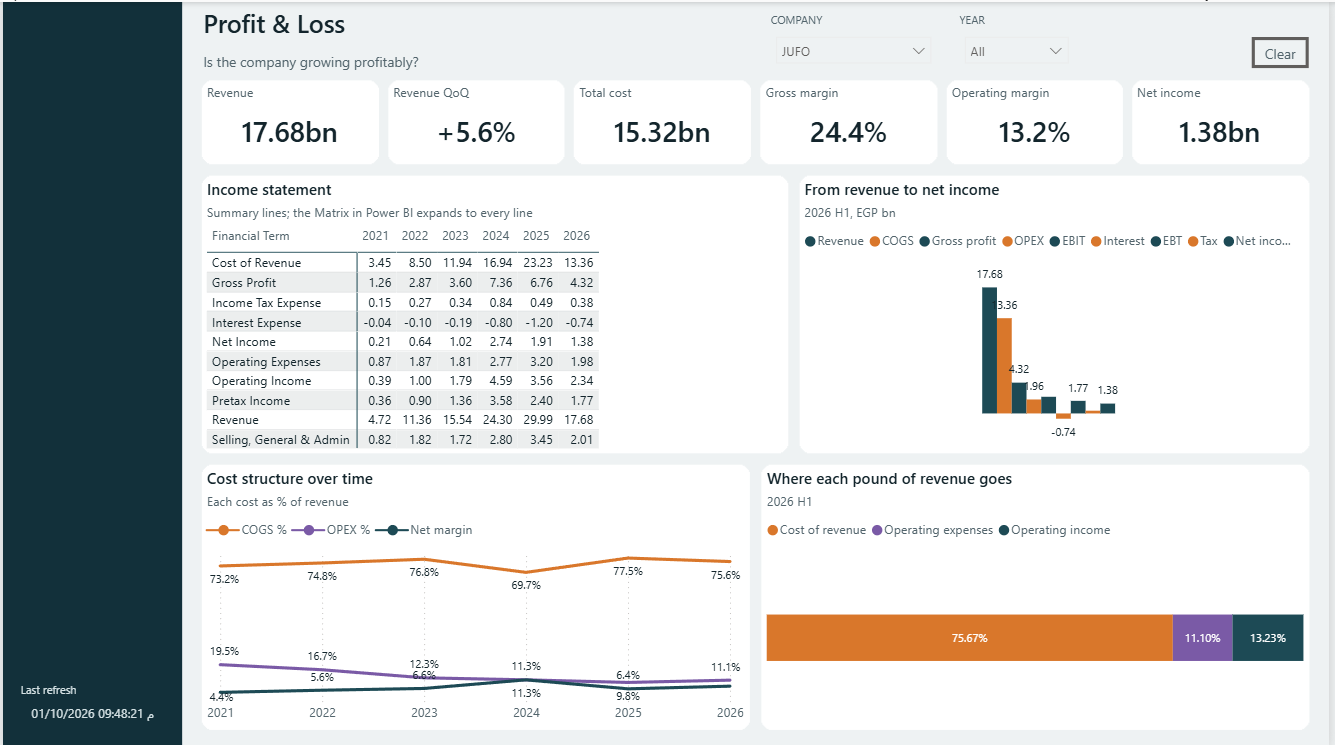

The page's visual inventory and layout, read from the dashboard file:
{"tool":"powerbi","page":{"name":"Profit & Loss","canvas":[1280,720],"ordinal":1},"visuals":[{"type":"card","title":"Revenue","fields":{"Values":["Measures List.Revenue (card)"]},"box":[192,78,170,80],"z":10},{"type":"card","title":"Revenue QoQ","fields":{"Values":["Measures List.Revenue QoQ% (card)"]},"box":[372,78,170,80],"z":11},{"type":"card","title":"Total cost","fields":{"Values":["Measures List.Total Cost (card)"]},"box":[551,78,170,80],"z":12},{"type":"card","title":"Gross margin","fields":{"Values":["Measures List.Gross Profit % (card)"]},"box":[731,78,170,80],"z":13},{"type":"card","title":"Operating margin","fields":{"Values":["Measures List.EBIT Margin % (card)"]},"box":[911,78,170,80],"z":14},{"type":"card","title":"Net income","fields":{"Values":["Measures List.Net Income (card)"]},"box":[1090,78,170,80],"z":15},{"type":"pivotTable","title":"Income statement","fields":{"Rows":["DimAccounts.Financial Term"],"Columns":["DimDate.Year"],"Values":["Measures List.Value (chart)"]},"box":[192,170,565,267],"z":20},{"type":"clusteredColumnChart","title":"From revenue to net income","fields":{"Y":["Measures List.Revenue (latest)","Measures List.COGS (latest)","Measures List.Gross profit (latest)","Measures List.OPEX (latest)","Measures List.EBIT (Operating Income) (latest)","Measures List.Interest Expense (latest)","Measures List.Pretax Income (latest)","Measures List.Income Tax Expense (latest)","Measures List.Net Income (latest)"]},"box":[769,170,491,267],"z":21},{"type":"lineChart","title":"Cost structure over time","fields":{"Y":["Measures List.COGS % of Revenue (chart)","Measures List.OPEX % of Revenue (chart)","Measures List.Net Income Margin % (chart)"],"Category":["DimDate.Year"]},"box":[192,449,528,255],"z":22},{"type":"hundredPercentStackedBarChart","title":"Where each pound of revenue goes","fields":{"Y":["Measures List.COGS (latest)","Measures List.OPEX (latest)","Measures List.EBIT (Operating Income) (latest)"]},"box":[732,449,528,255],"z":23},{"type":"pageNavigator","box":[12,38,150,270],"z":50},{"type":"card","title":"Last refresh","fields":{"Values":["Max(Last Refreash.Date)"]},"box":[12,656,150,52],"z":51},{"type":"textbox","box":[188,0,540,46],"z":52},{"type":"textbox","box":[188,44,540,30],"z":53},{"type":"slicer","title":"COMPANY","fields":{"Values":["FactFinancials.Company"]},"box":[736,10,170,56],"z":54},{"type":"slicer","title":"YEAR","fields":{"Values":["DimDate.Year"]},"box":[918,10,120,56],"z":55},{"type":"actionButton","box":[1205,34,55,30],"z":56}]}

Visuals, with their boxes in screenshot pixels (x1, y1, x2, y2), scaled from the page's 1280x720 canvas onto the 1335x745 screenshot:
"Revenue" card: [200, 81, 378, 163]
"Revenue QoQ" card: [388, 81, 565, 163]
"Total cost" card: [575, 81, 752, 163]
"Gross margin" card: [762, 81, 940, 163]
"Operating margin" card: [950, 81, 1127, 163]
"Net income" card: [1137, 81, 1314, 163]
"Income statement" pivotTable: [200, 176, 790, 452]
"From revenue to net income" clusteredColumnChart: [802, 176, 1314, 452]
"Cost structure over time" lineChart: [200, 465, 751, 728]
"Where each pound of revenue goes" hundredPercentStackedBarChart: [763, 465, 1314, 728]
pageNavigator: [13, 39, 169, 319]
"Last refresh" card: [13, 679, 169, 733]
textbox: [196, 0, 759, 48]
textbox: [196, 46, 759, 77]
"COMPANY" slicer: [768, 10, 945, 68]
"YEAR" slicer: [957, 10, 1083, 68]
actionButton: [1257, 35, 1314, 66]
